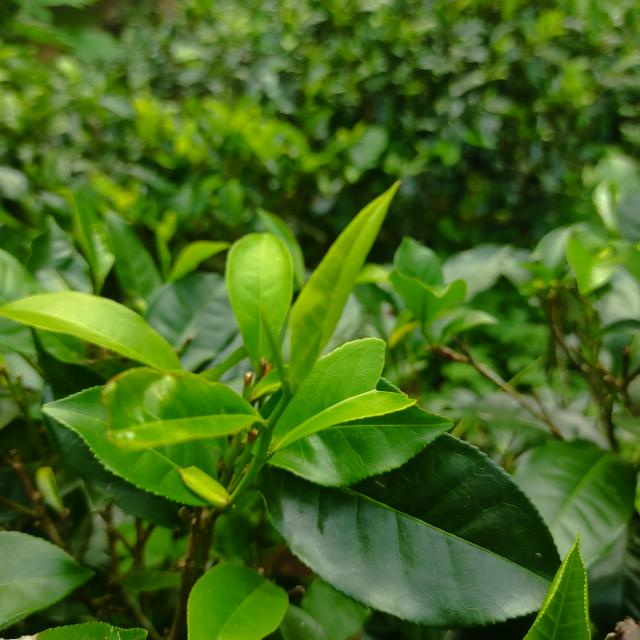unopened_leaf: (252, 296, 296, 405)
